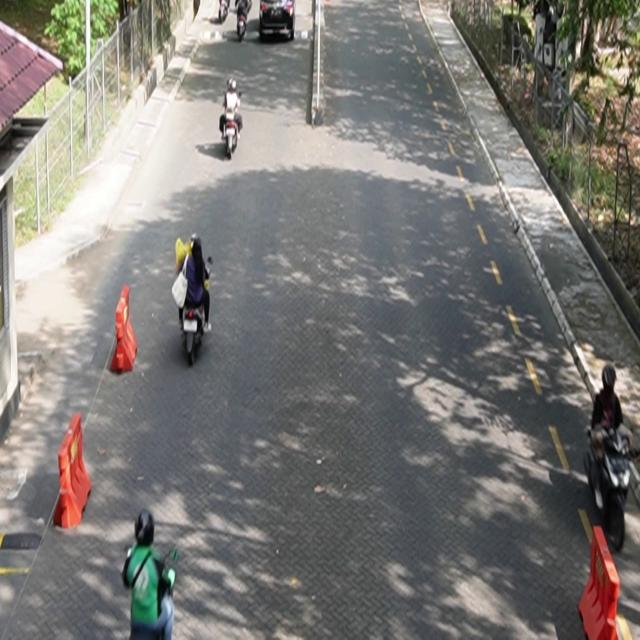car: (259, 1, 296, 41)
